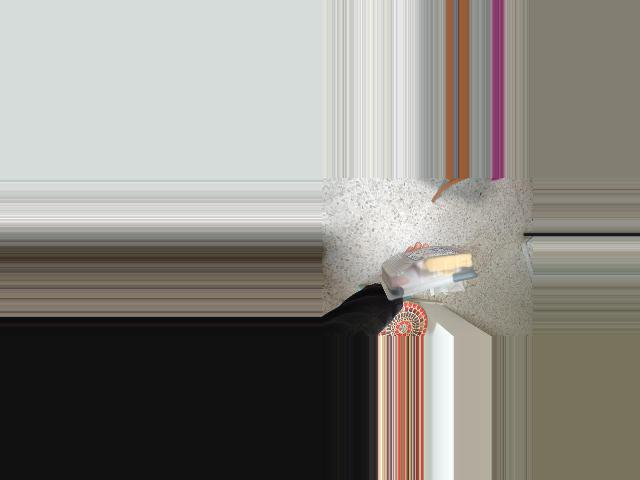cheese: (382, 244, 477, 303)
